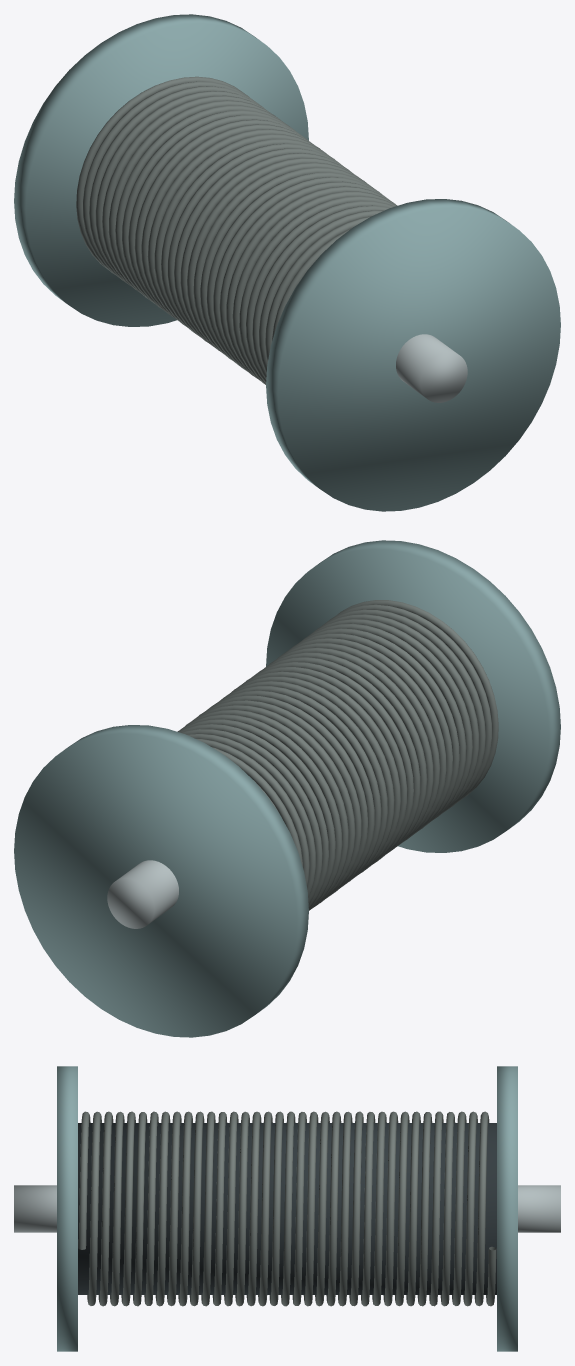
The model's file is trawl_drum.glb.
The picture shows the model from 3 angles, top to bottom: view 1: azimuth 30°, elevation 25°; view 2: azimuth 150°, elevation 25°; view 3: azimuth 270°, elevation 25°; orthographic projection. The views are drawn at different scales.
Visible parts, largest first — view 1: Drum flange, Wound warp, Drum flange.001, Axle; view 2: Drum flange.001, Wound warp, Drum flange, Axle.001; view 3: Wound warp, Drum barrel, Drum flange, Drum flange.001, Axle, Axle.001.
Boxes of the visible parts, box(x1,y1,x2,y2) form: Drum flange: box(266, 199, 560, 511); Wound warp: box(76, 76, 397, 384); Drum flange.001: box(14, 14, 308, 326); Axle: box(396, 334, 467, 402); Drum flange.001: box(14, 725, 308, 1037); Wound warp: box(177, 600, 498, 910); Drum flange: box(266, 540, 560, 852); Axle.001: box(107, 860, 178, 928); Wound warp: box(78, 1111, 496, 1306); Drum barrel: box(78, 1123, 496, 1294); Drum flange: box(57, 1066, 77, 1351); Drum flange.001: box(497, 1066, 517, 1351); Axle: box(14, 1185, 56, 1232); Axle.001: box(518, 1185, 560, 1232).
Size of the model in its own units: 0.96 by 0.96 by 1.84.
